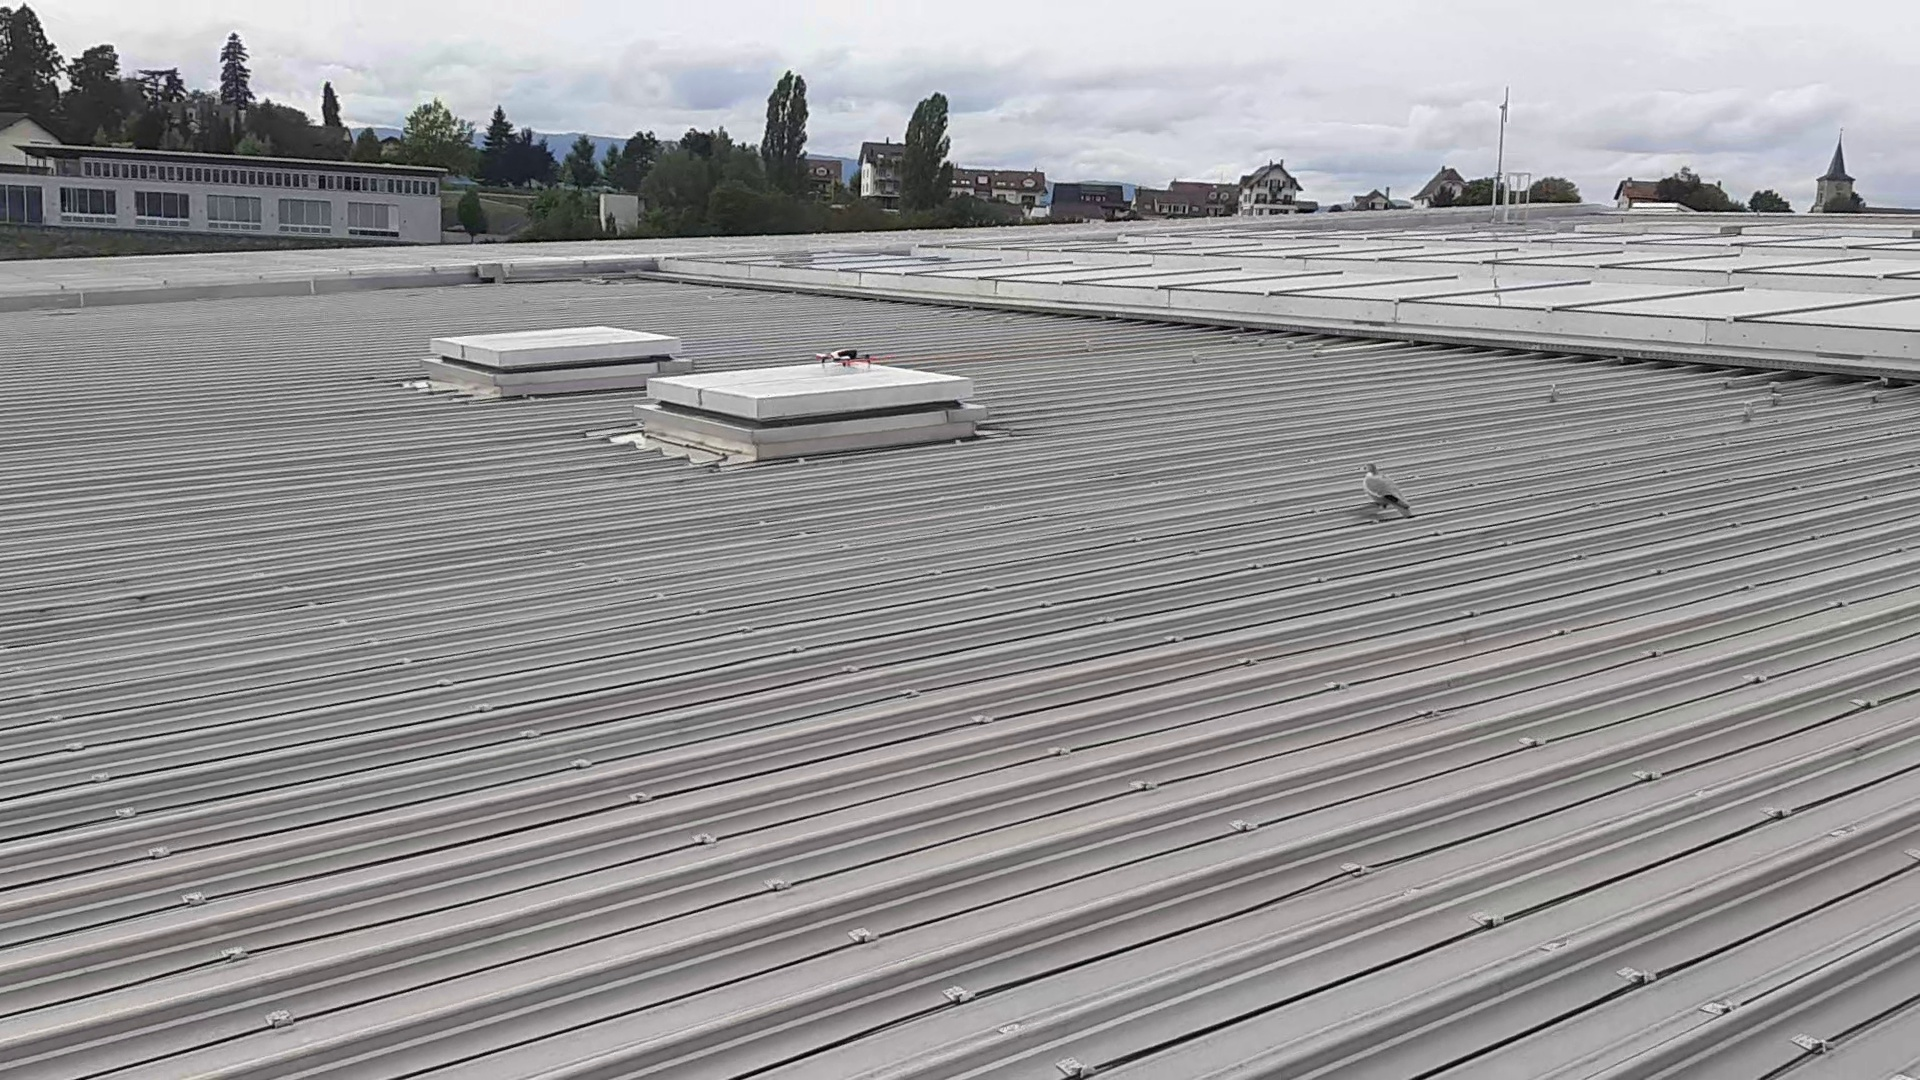Pigeon: (1353, 454, 1422, 527)
